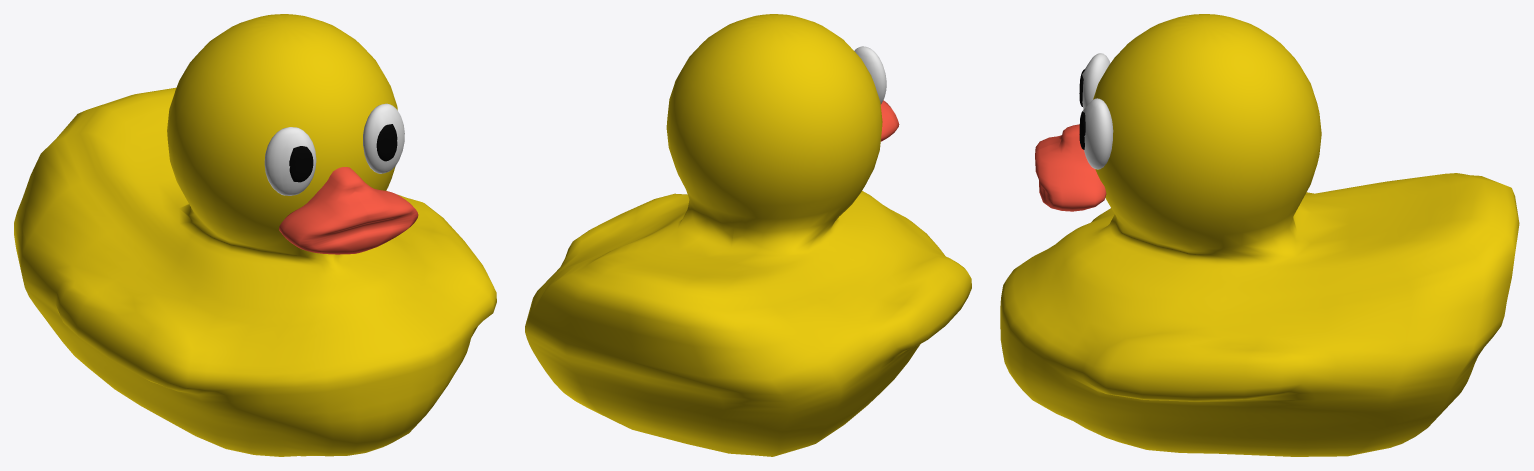
The model's file is RubberDucky.glb.
3 views of the same model, side by side, from view 1: azimuth 30°, elevation 25°; view 2: azimuth 150°, elevation 25°; view 3: azimuth 270°, elevation 25° (orthographic). The views are drawn at different scales.
Visible parts, largest first — view 1: Duck; view 2: Duck; view 3: Duck.
Part boxes in pixels (x1,y1,x2,y2): Duck: [14, 14, 496, 456]; Duck: [525, 14, 971, 456]; Duck: [1000, 14, 1519, 456].
Bounding box in the file's own units: 0.7372 × 0.7575 × 0.8845.
